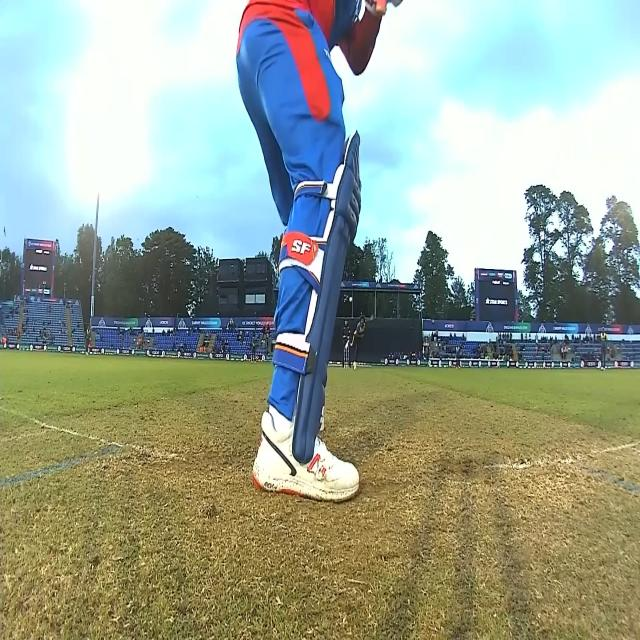ball: (348, 293, 356, 307)
